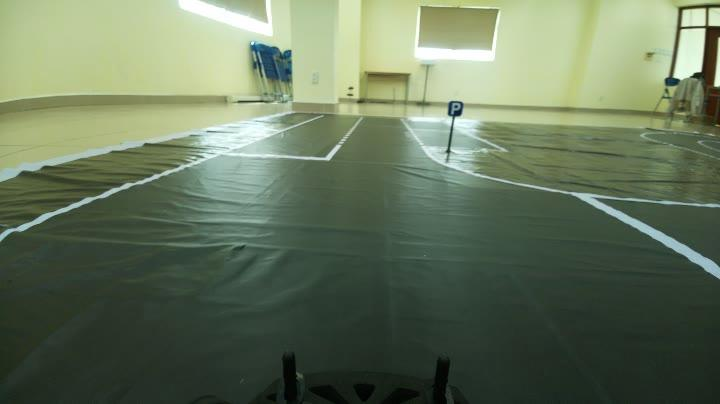parking: (443, 95, 466, 121)
